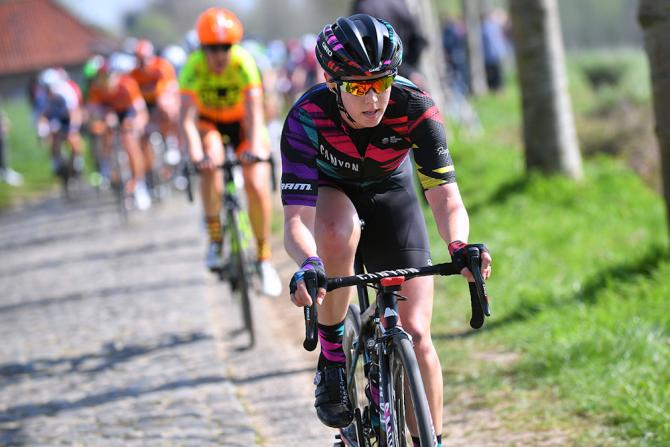helmet: (313, 13, 408, 78)
